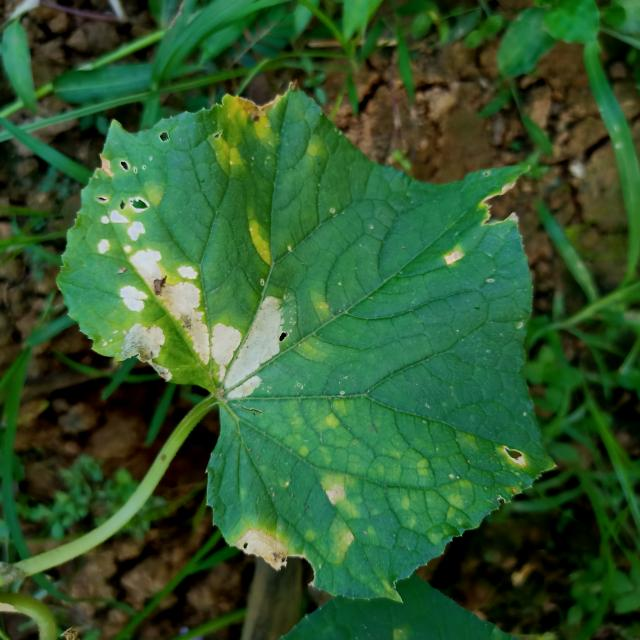disease_cucumber: (70, 155, 287, 404), (308, 454, 380, 558), (209, 100, 294, 182), (241, 206, 283, 270)
